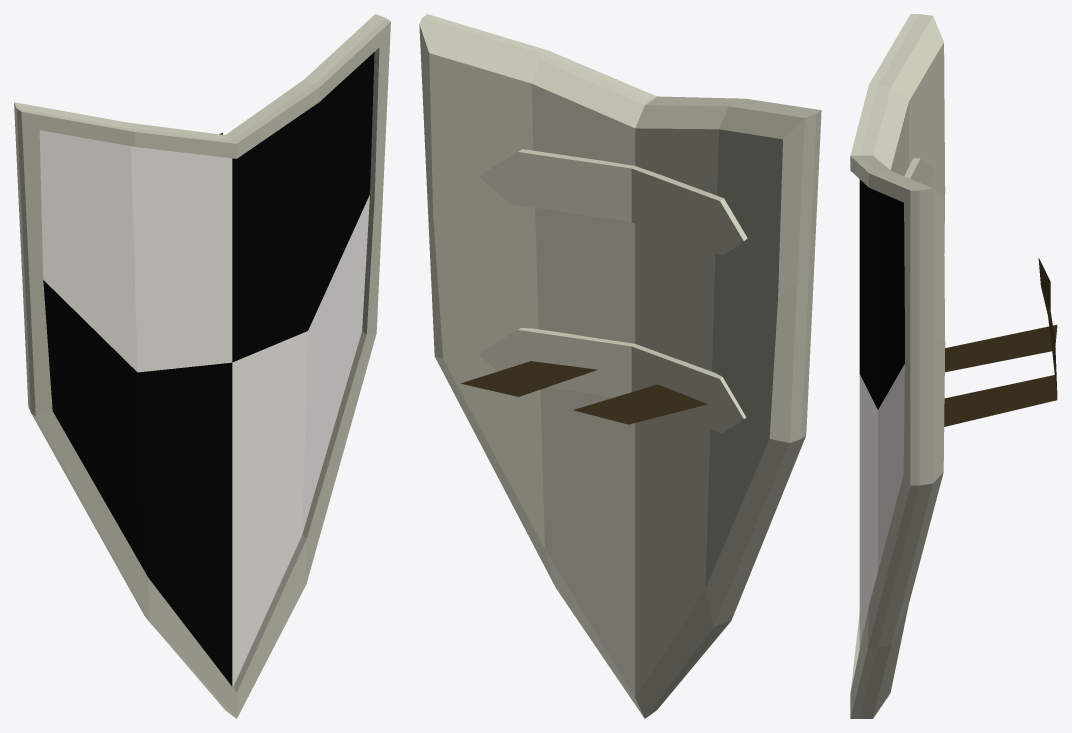
File: shield.fbx
The picture shows the model from 3 angles, left to right: view 1: azimuth 30°, elevation 25°; view 2: azimuth 150°, elevation 25°; view 3: azimuth 270°, elevation 25°; orthographic projection. The views are drawn at different scales.
Parts seen in each view (by area): view 1: shield; view 2: shield; view 3: shield.
Boxes of the visible parts, bbox=[...] form: shield: bbox=[14, 14, 390, 718]; shield: bbox=[419, 14, 821, 718]; shield: bbox=[850, 14, 1057, 718].
Size of the model in its own units: 127 by 207 by 62.98.
